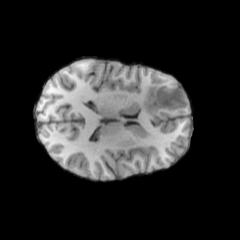glioma: (144, 84, 190, 116)
